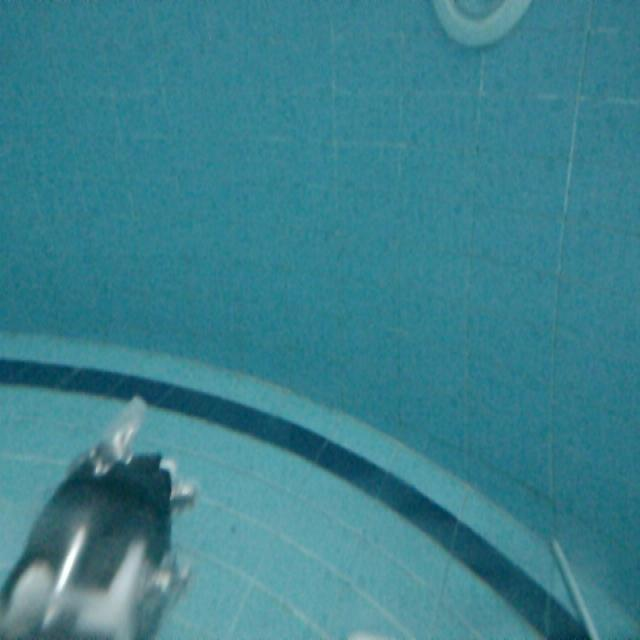Cube: (548, 533, 603, 640)
